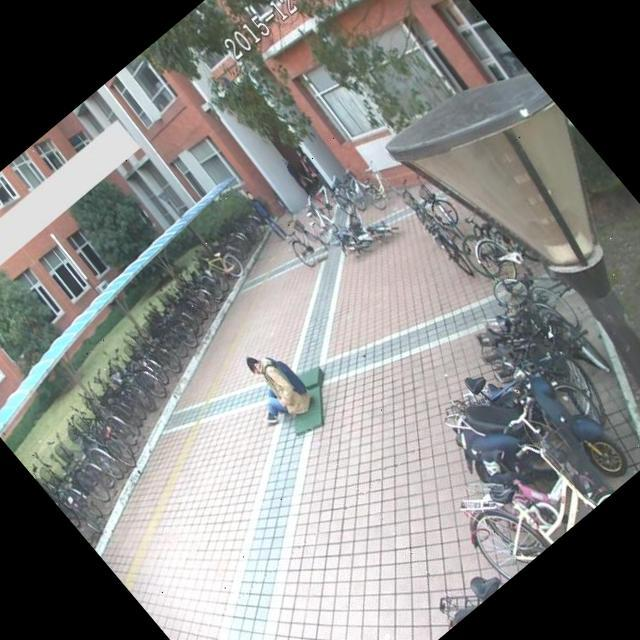person: (220, 333, 320, 438), (235, 182, 294, 247)
